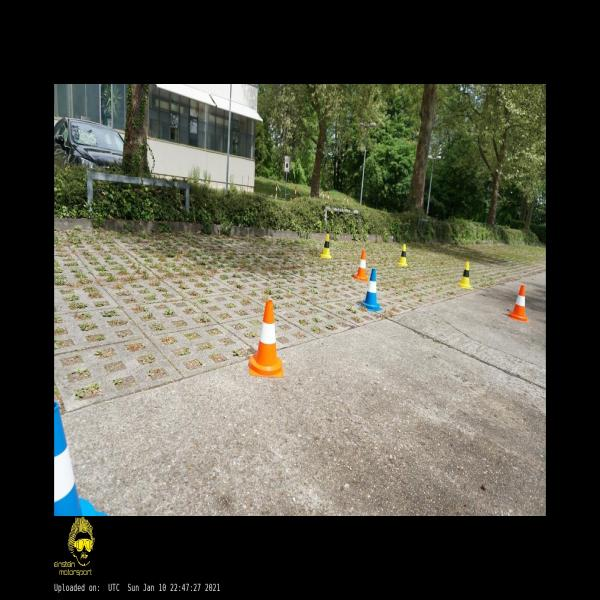blue_cone: (54, 400, 108, 516), (362, 269, 382, 311)
orange_cone: (248, 300, 284, 378), (507, 285, 528, 322), (354, 251, 368, 282)
yellow_cone: (459, 262, 471, 289), (320, 234, 332, 259), (398, 245, 408, 266)
